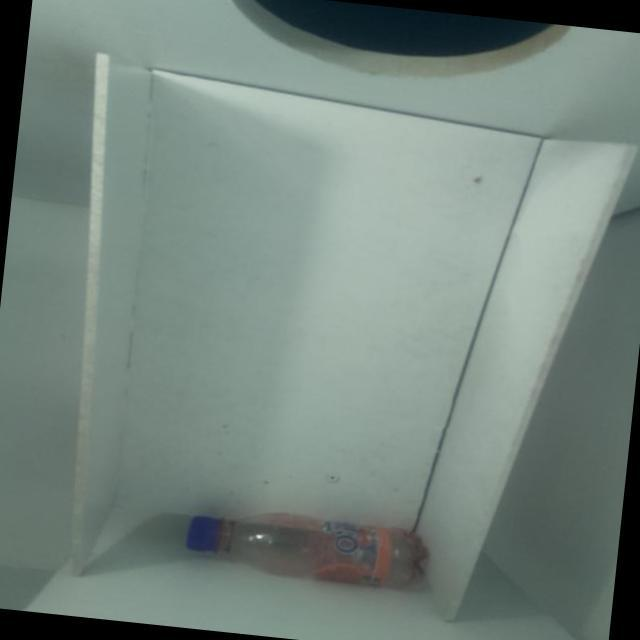good: (171, 476, 463, 608)
